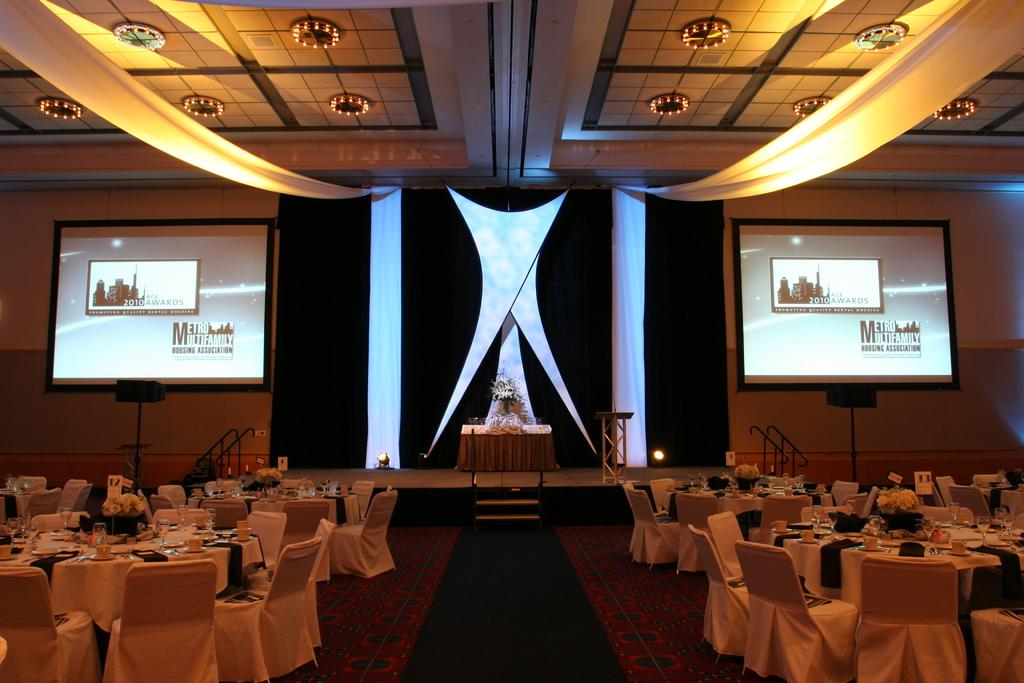Chair: (621, 477, 1023, 682), (0, 479, 400, 682), (746, 556, 833, 654)
